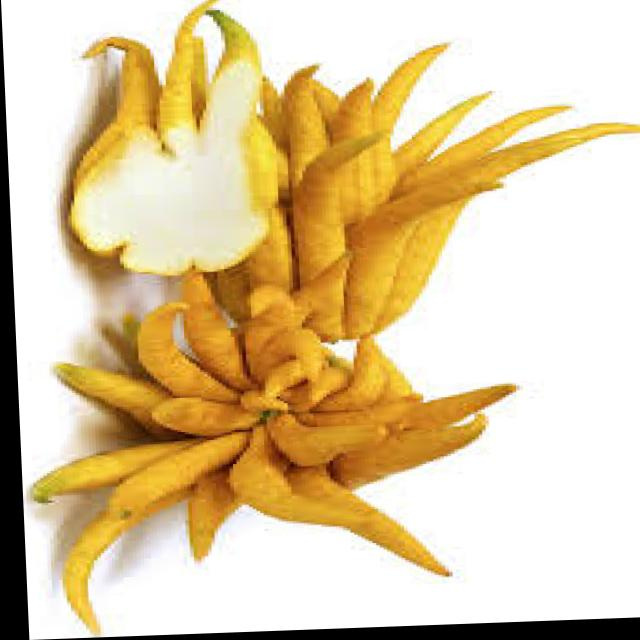PhatThu: (21, 302, 541, 636), (177, 39, 640, 350), (53, 0, 285, 294)
